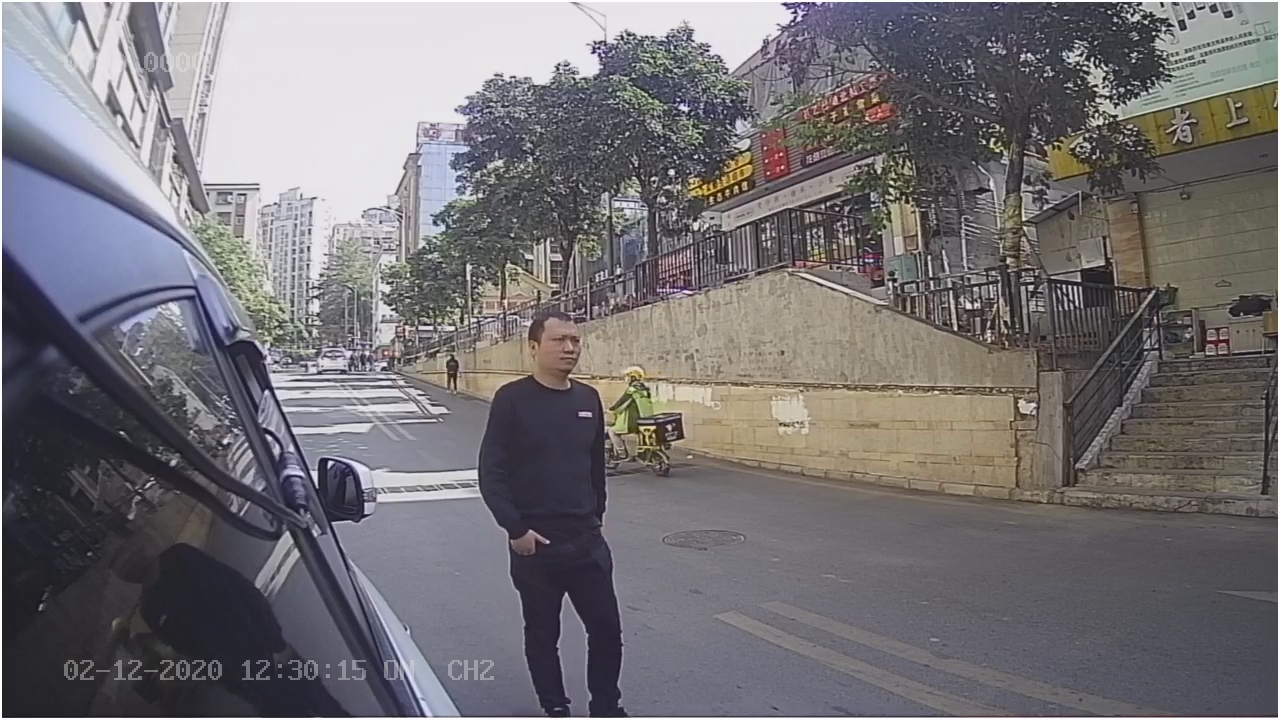person: (473, 310, 642, 555)
